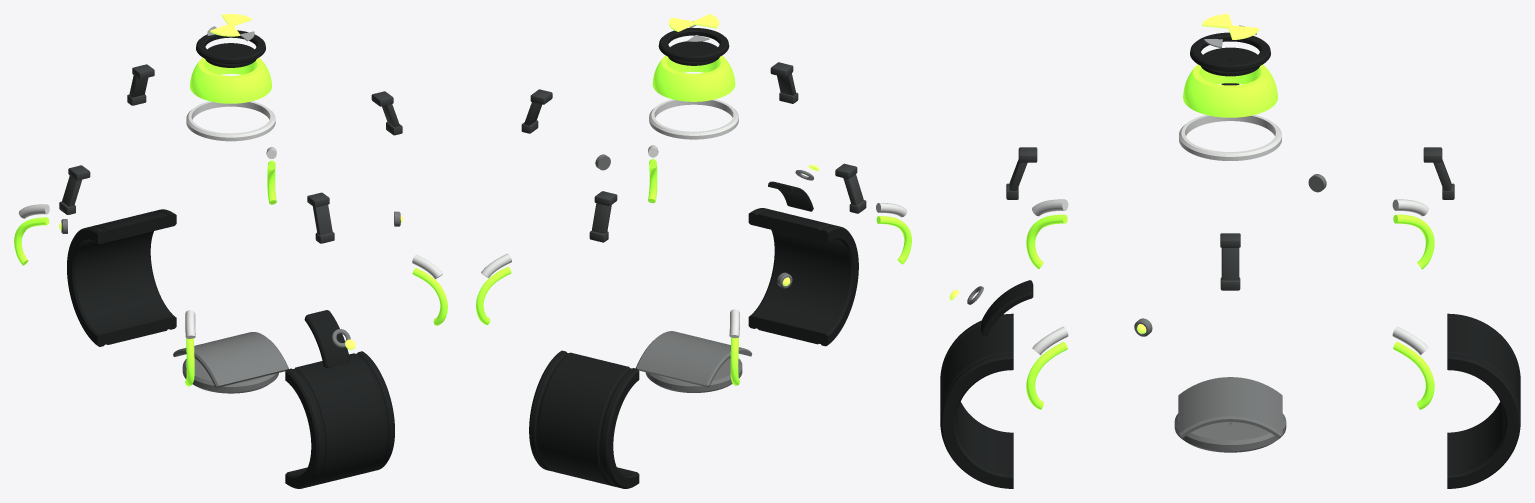
The model's file is omnitrix.glb.
The picture shows the model from 3 angles, left to right: view 1: azimuth 30°, elevation 25°; view 2: azimuth 150°, elevation 25°; view 3: azimuth 270°, elevation 25°; orthographic projection. The views are drawn at different scales.
Visible parts, largest first — view 1: cuff_b, cuff_a, saddle, dome, collar, tab, housing, face_ring, clip_3, clip_2, clip_1, face_disc (+4 smaller); view 2: cuff_b, cuff_a, saddle, dome, collar, face_ring, housing, clip_1, clip_2, clip_3, tab, clip_0 (+4 smaller); view 3: cuff_b, cuff_a, saddle, dome, housing, collar, face_ring, clip_0, tab, face_disc, hose_0, hose_2 (+5 smaller).
Part boxes in pixels (x1=…): cuff_b: x1=67, y1=209, x2=176, y2=346; cuff_a: x1=285, y1=351, x2=394, y2=488; saddle: x1=173, y1=332, x2=288, y2=387; dome: x1=190, y1=58, x2=271, y2=103; collar: x1=186, y1=101, x2=275, y2=141; tab: x1=304, y1=310, x2=350, y2=367; housing: x1=182, y1=358, x2=278, y2=393; face_ring: x1=196, y1=30, x2=265, y2=63; clip_3: x1=307, y1=192, x2=334, y2=243; clip_2: x1=59, y1=165, x2=90, y2=214; clip_1: x1=127, y1=64, x2=154, y2=105; face_disc: x1=205, y1=43, x2=256, y2=67; cuff_b: x1=529, y1=350, x2=639, y2=488; cuff_a: x1=748, y1=208, x2=858, y2=346; saddle: x1=636, y1=331, x2=751, y2=387; dome: x1=652, y1=55, x2=735, y2=101; collar: x1=649, y1=99, x2=738, y2=139; face_ring: x1=658, y1=28, x2=729, y2=61; housing: x1=645, y1=357, x2=742, y2=392; clip_1: x1=589, y1=191, x2=617, y2=242; clip_2: x1=835, y1=163, x2=866, y2=213; clip_3: x1=770, y1=62, x2=798, y2=103; tab: x1=768, y1=181, x2=813, y2=211; clip_0: x1=521, y1=89, x2=552, y2=133; cuff_b: x1=1447, y1=313, x2=1520, y2=488; cuff_a: x1=940, y1=313, x2=1013, y2=488; saddle: x1=1178, y1=377, x2=1282, y2=438; dome: x1=1183, y1=64, x2=1277, y2=117; housing: x1=1174, y1=413, x2=1286, y2=452; collar: x1=1179, y1=115, x2=1281, y2=160; face_ring: x1=1190, y1=32, x2=1270, y2=71; clip_0: x1=1220, y1=233, x2=1240, y2=290; tab: x1=981, y1=280, x2=1033, y2=336; face_disc: x1=1201, y1=47, x2=1259, y2=76; hose_0: x1=1026, y1=341, x2=1067, y2=409; hose_2: x1=1393, y1=341, x2=1434, y2=409.
Size of the model in its own units: 8.68 by 9.44 by 11.24.
